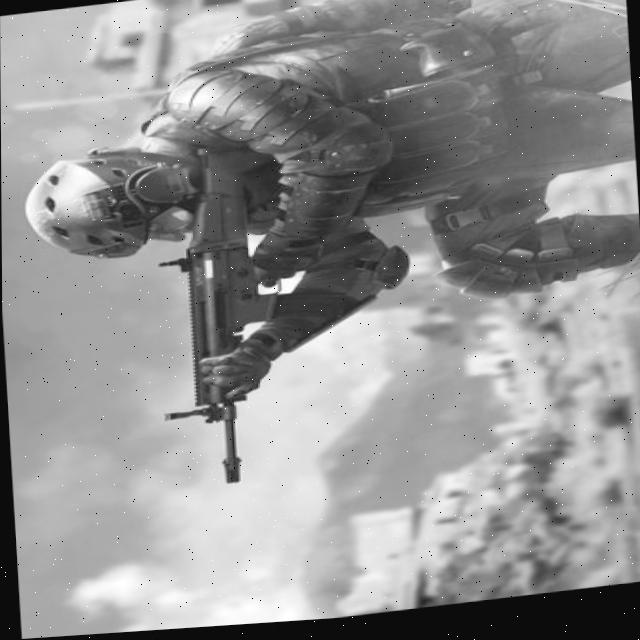firearm: (147, 148, 306, 495)
